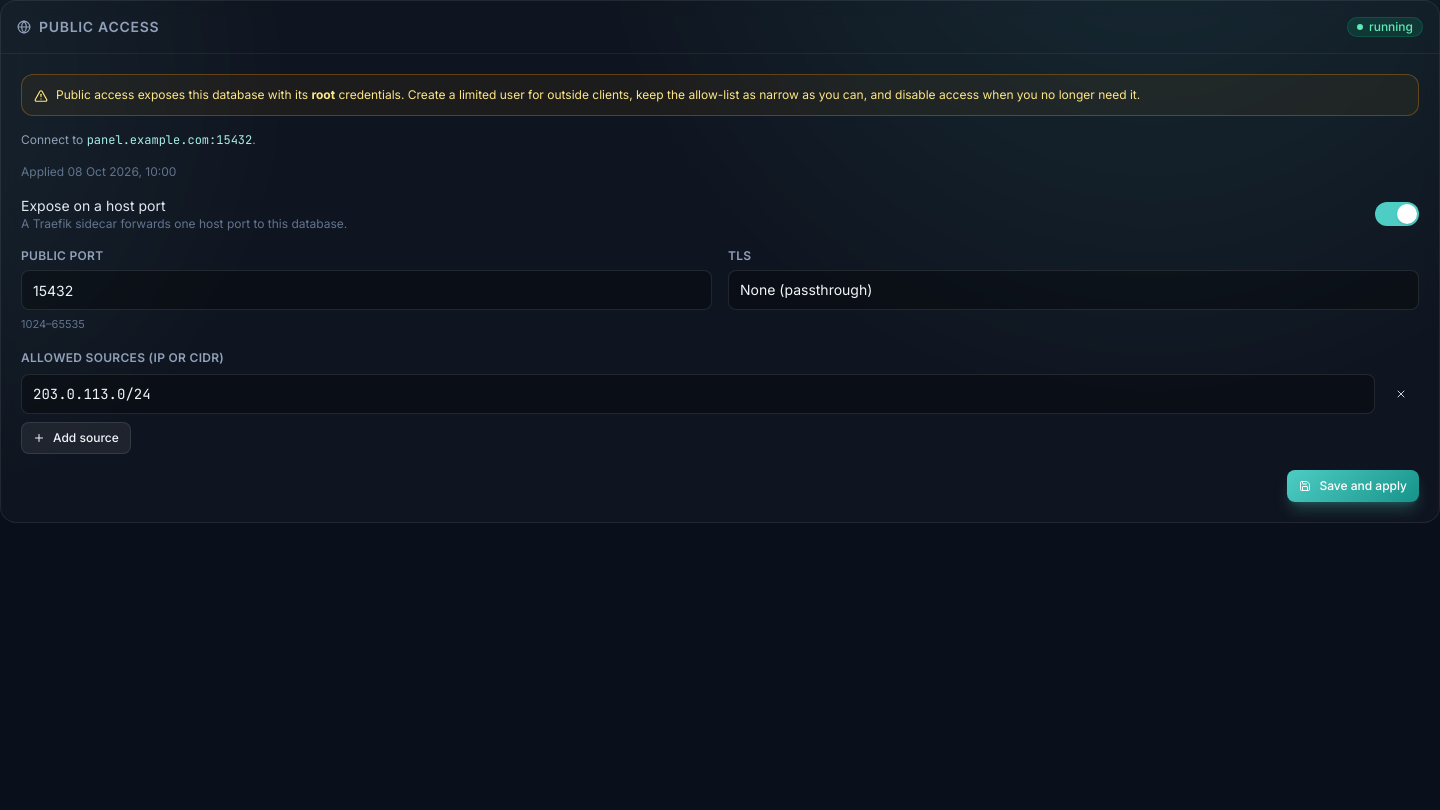
Test: PublicAccessCard › reports a sidecar error returned by a save, and a refused save
Click the button "Save and apply".
click(1353, 486)  # box [1287,470,1419,502]
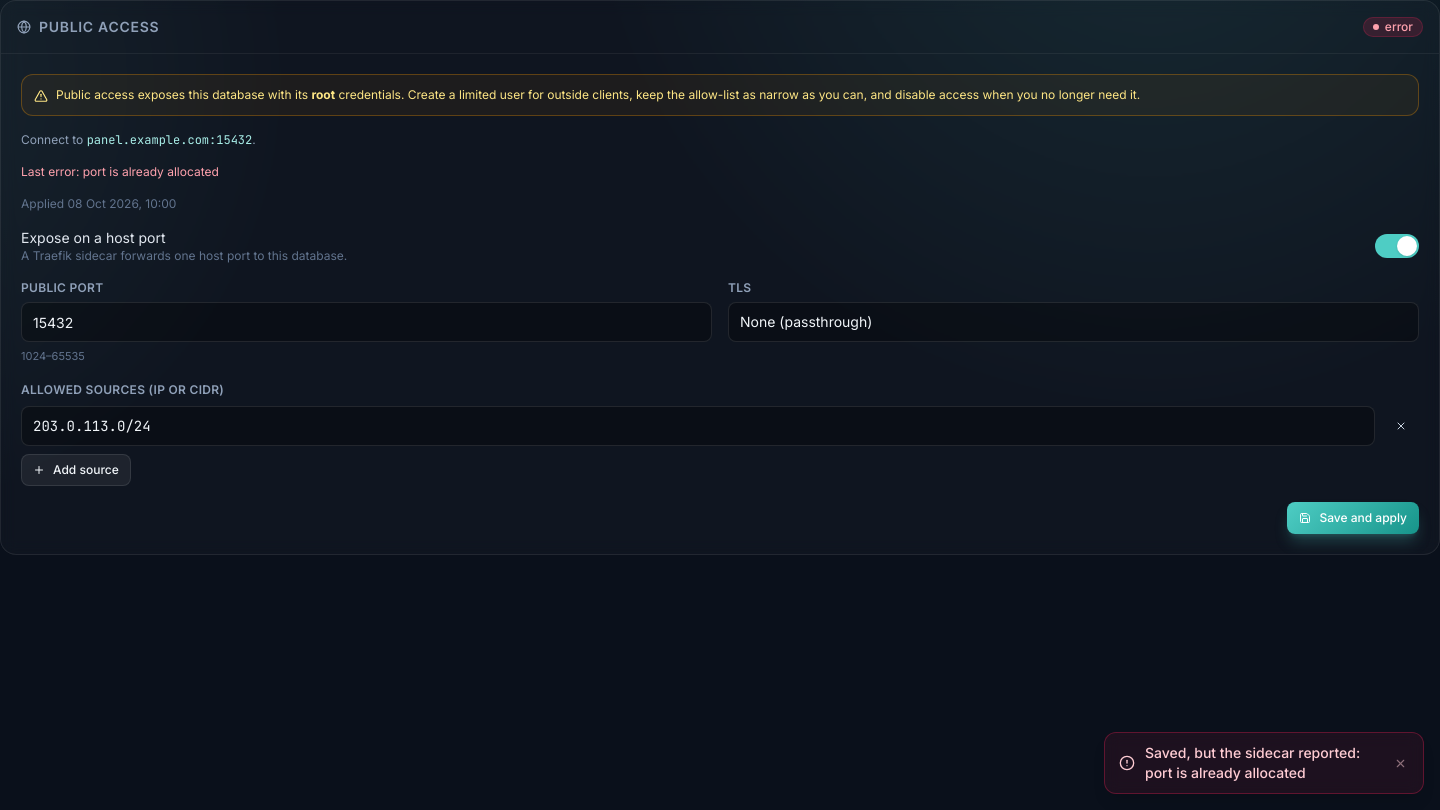
Result: the text "Saved, but the sidecar reported: port is already allocated" is shown at [1145,743,1382,783]
Result: the text "Last error: port is already allocated" is shown at [21,164,219,179]
Click the button "Save and apply".
click(1353, 518)  # box [1287,502,1419,534]
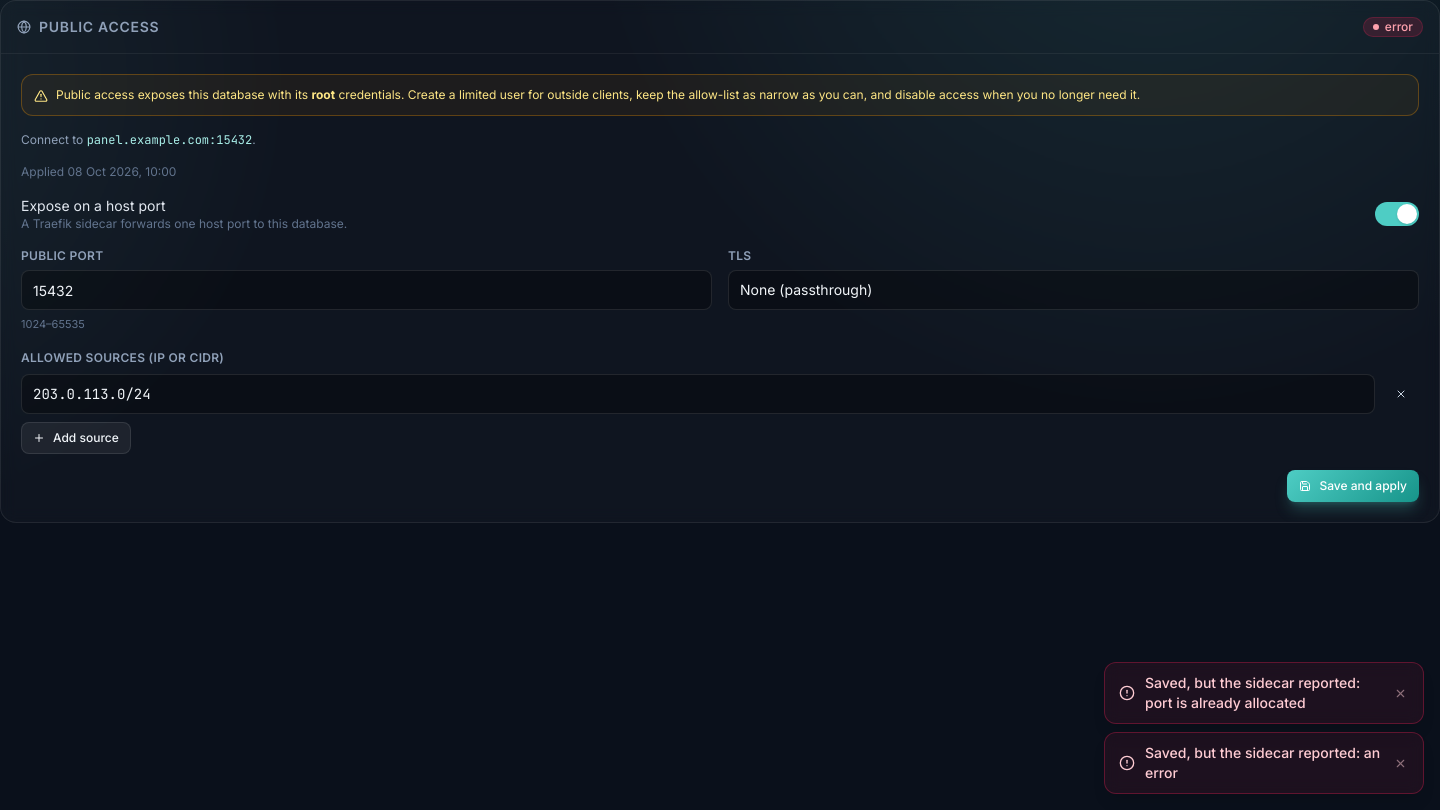
Result: the text "Saved, but the sidecar reported: an error" is shown at [1145,743,1382,783]
Click the button "Save and apply".
click(1353, 486)  # box [1287,470,1419,502]
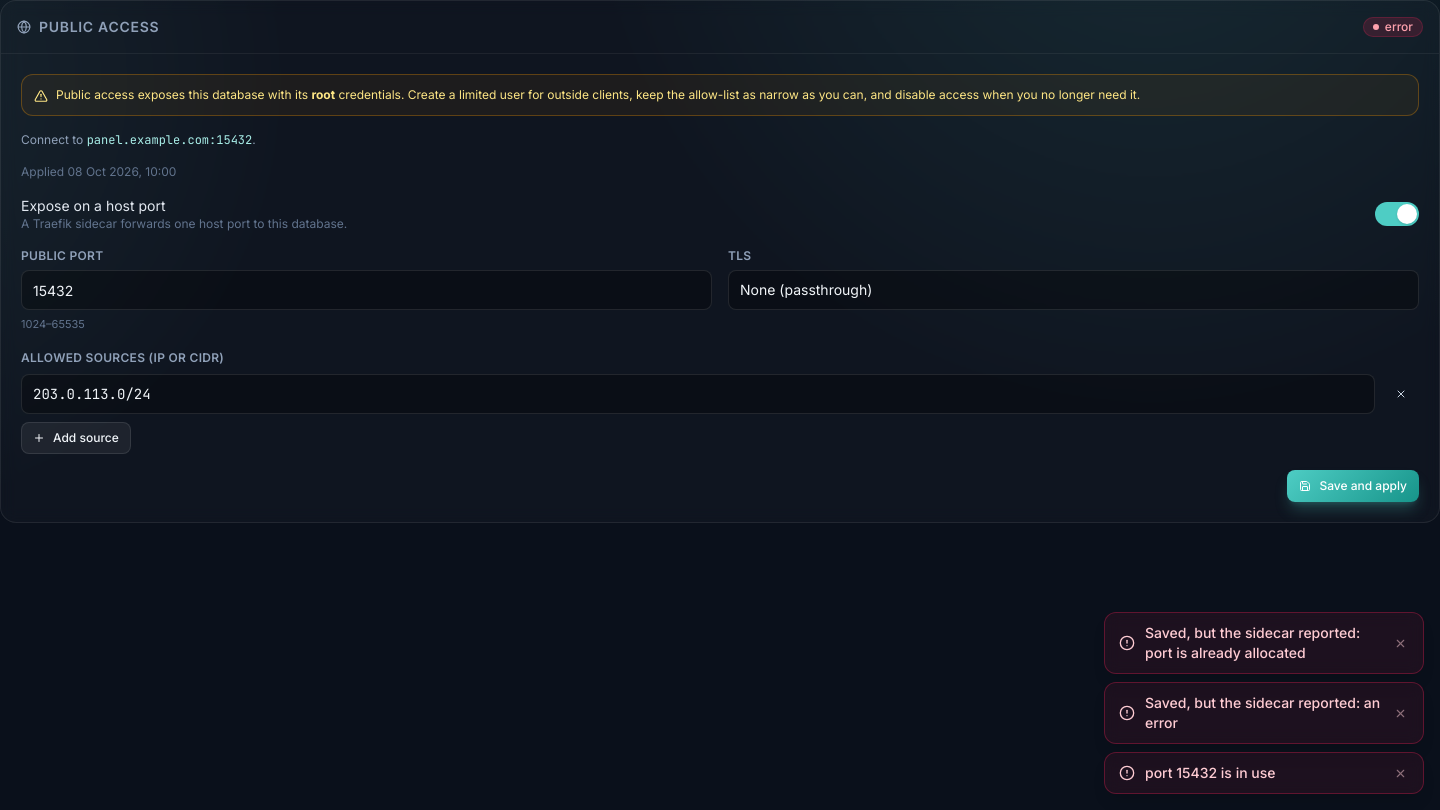
Result: the text "port 15432 is in use" is shown at [1145,764,1276,781]
Click the button "Save and apply".
click(1353, 486)  # box [1287,470,1419,502]
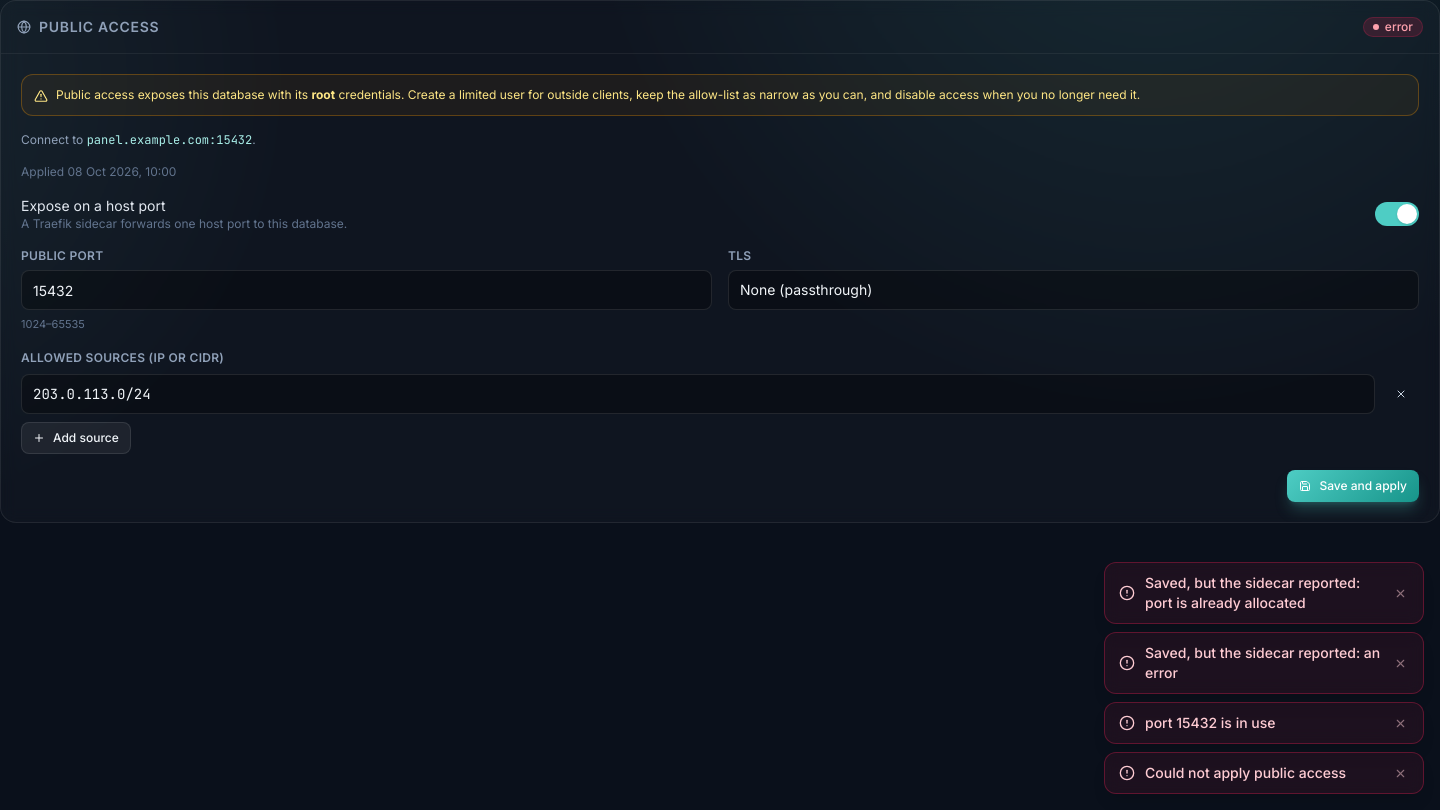
Result: the text "Could not apply public access" is shown at [1145,764,1346,781]
